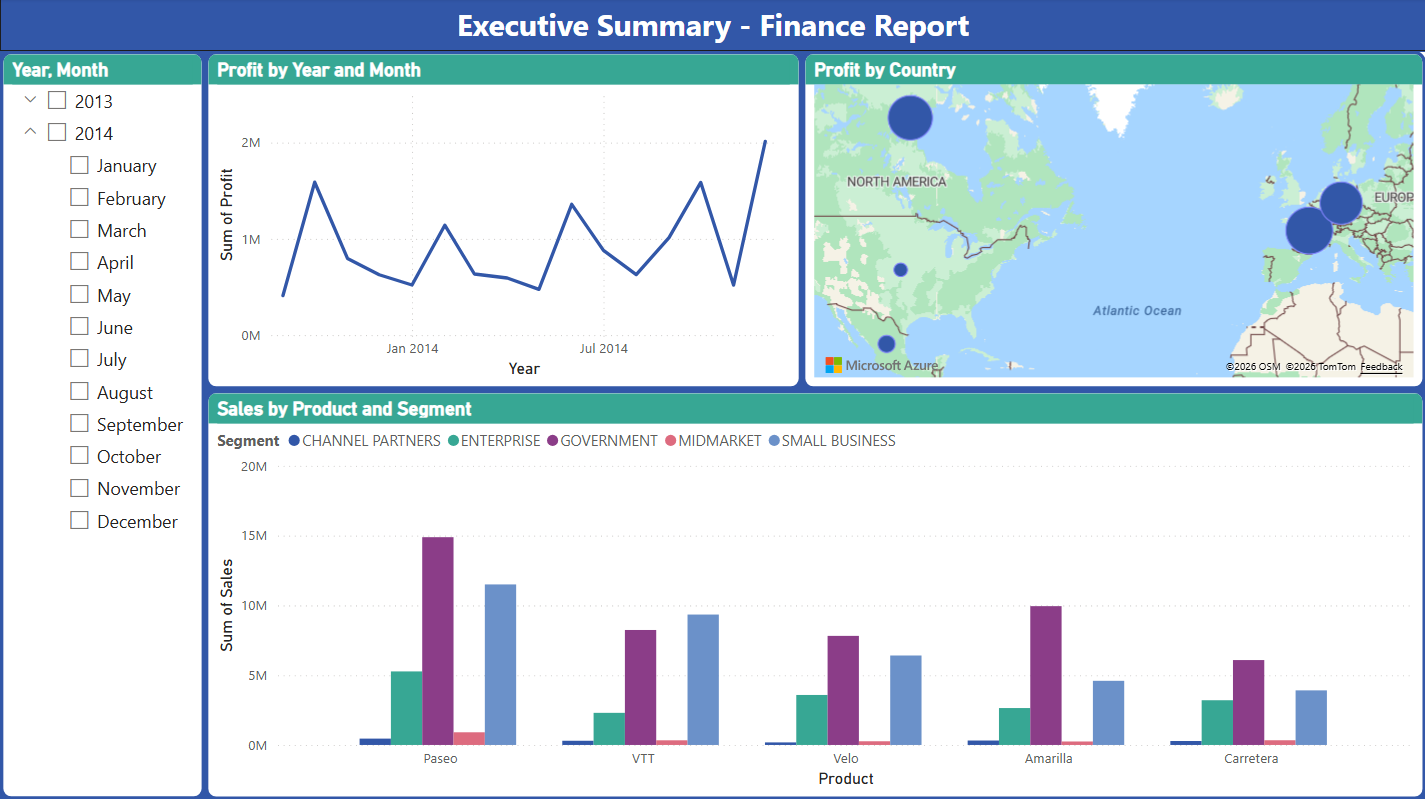

This screenshot's page, from the dashboard's own definition file:
{"tool":"powerbi","page":{"name":"Page 1","canvas":[1280,720],"ordinal":0},"visuals":[{"type":"textbox","box":[0,0,1280,48],"z":0},{"type":"lineChart","title":"Profit by Year and Month","fields":{"Category":["Calendar.Date.Variation.Date Hierarchy.Year","Calendar.Date.Variation.Date Hierarchy.Month"],"Y":["Sum(financials.Profit)"]},"box":[184,48,536,304],"z":1000},{"type":"azureMap","title":"Profit by Country","fields":{"Category":["financials.Country"],"Size":["Sum(financials.Profit)"]},"box":[720,48,560,304],"z":2000},{"type":"clusteredColumnChart","title":"Sales by Product and Segment","fields":{"Y":["Sum(financials.Sales)"],"Category":["financials.Product"],"Series":["financials.Segment"]},"box":[184,352,1096,368],"z":3000},{"type":"slicer","title":"Year, Month","fields":{"Values":["Calendar.Date.Variation.Date Hierarchy.Year","Calendar.Date.Variation.Date Hierarchy.Month"]},"box":[0,48,184,672],"z":4000}]}

Visuals, with their boxes in screenshot pixels (x1, y1, x2, y2), scaled from the page's 1280x720 canvas onto the 1425x799 screenshot:
textbox: 0 0 1424 53
"Profit by Year and Month" lineChart: 205 53 802 391
"Profit by Country" azureMap: 802 53 1424 391
"Sales by Product and Segment" clusteredColumnChart: 205 391 1424 798
"Year, Month" slicer: 0 53 205 798
